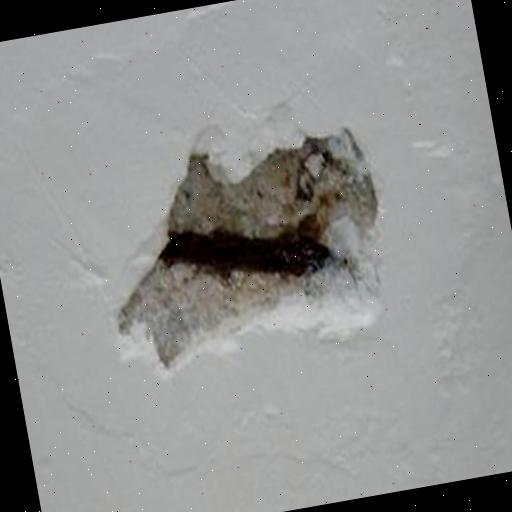spalling: (90, 114, 406, 386)
